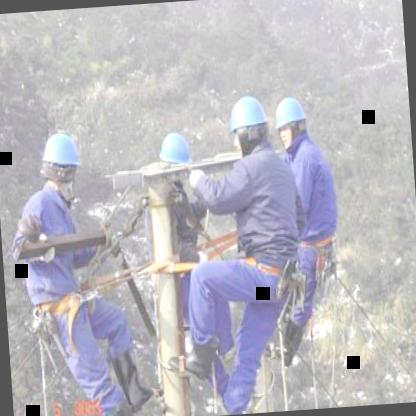helmet: (224, 90, 276, 161), (35, 126, 86, 196), (154, 128, 196, 189), (272, 94, 310, 152)
